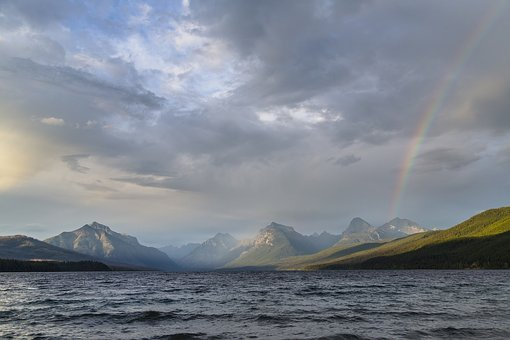mountain: (10, 220, 510, 268)
sea: (3, 270, 505, 340)
sky: (5, 4, 510, 221)
